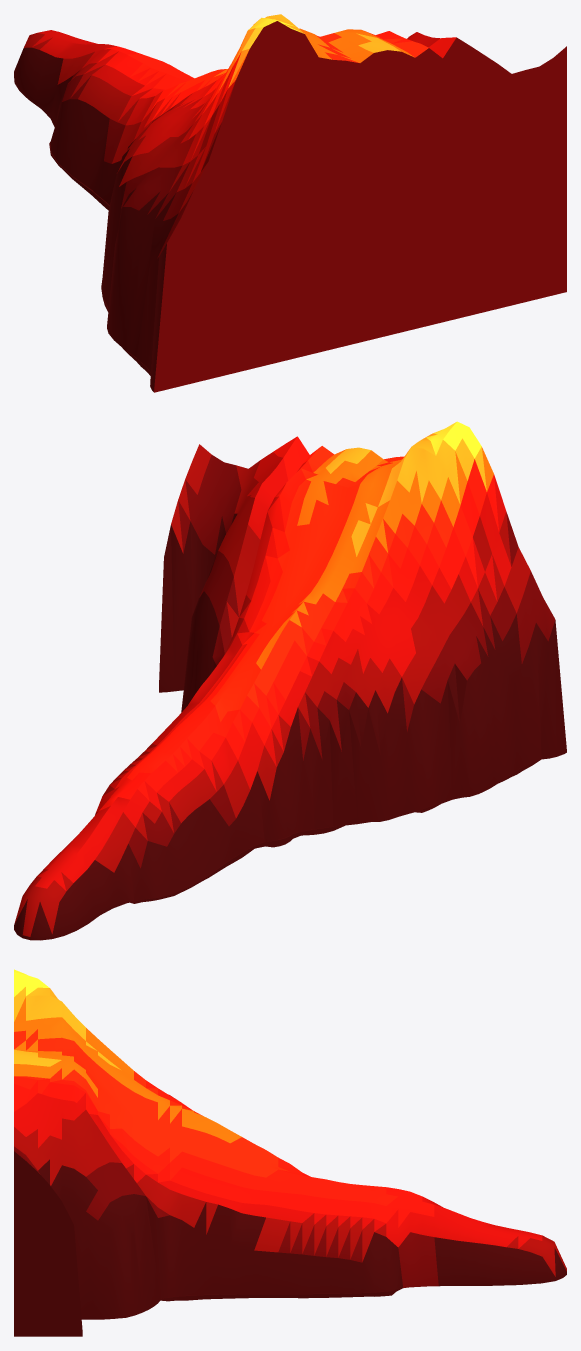
File: core_fire_22.glb
3 renders of one model, top to bottom at view 1: azimuth 30°, elevation 25°; view 2: azimuth 150°, elevation 25°; view 3: azimuth 270°, elevation 25°, orthographic. The views are drawn at different scales.
Visible parts, largest first — view 1: core_fire_22_fire; view 2: core_fire_22_fire; view 3: core_fire_22_fire.
Boxes of the visible parts, box(x1,y1,x2,y2) form: core_fire_22_fire: box(14, 14, 566, 392); core_fire_22_fire: box(14, 421, 566, 940); core_fire_22_fire: box(14, 969, 566, 1336).
Size of the model in its own units: 17.96 by 14.52 by 27.62.
